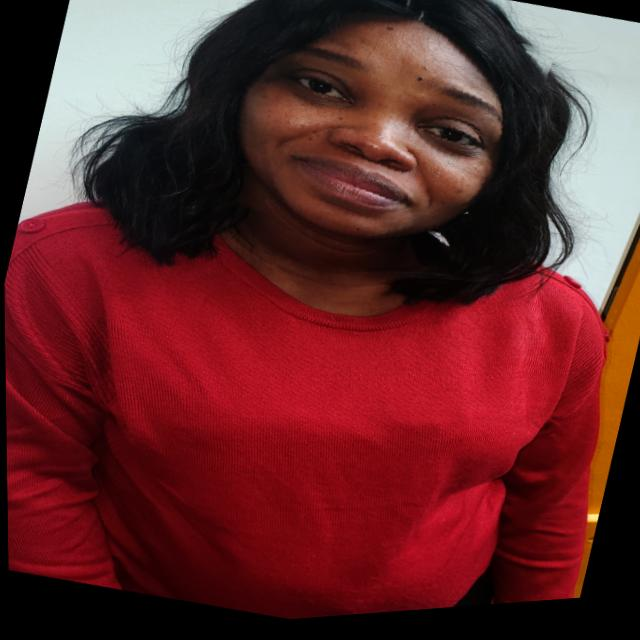sad: (184, 0, 558, 300)
